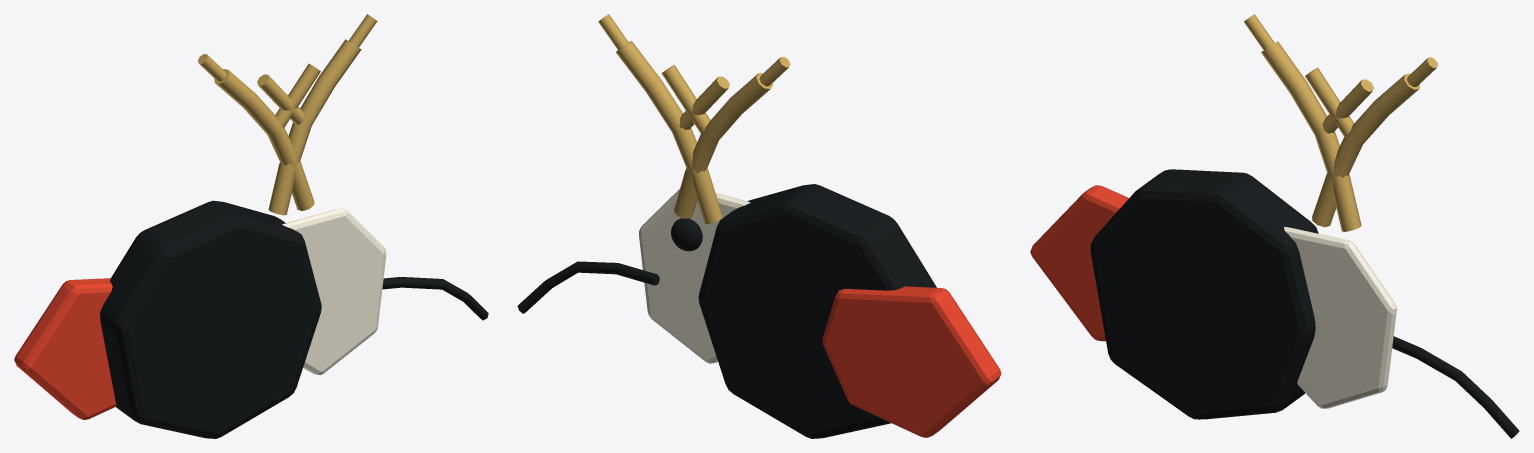
3 renders of one model, left to right at view 1: azimuth 30°, elevation 25°; view 2: azimuth 150°, elevation 25°; view 3: azimuth 330°, elevation 25°, orthographic. The views are drawn at different scales.
Parts seen in each view (by area): view 1: 128 horned dragon carp, 128 ivory armored face, 128 vermilion brush tail, 128 antler main -1, 128 antler main 1, 128 long whisker, 128 antler fork 1, 128 antler fork -1; view 2: 128 horned dragon carp, 128 vermilion brush tail, 128 ivory armored face, 128 antler main -1, 128 antler main 1, 128 long whisker, 128 antler fork 1, 128 antler fork -1, bold ink eye, 128 antler tine -1, 128 antler tine 1; view 3: 128 horned dragon carp, 128 ivory armored face, 128 vermilion brush tail, 128 antler main 1, 128 antler main -1, 128 long whisker, 128 antler fork -1, 128 antler fork 1, 128 antler tine 1, 128 antler tine -1.
Part boxes in pixels (left/top/right/bottom): 128 horned dragon carp: left=100, top=200, right=321, bottom=438; 128 ivory armored face: left=282, top=208, right=386, bottom=374; 128 vermilion brush tail: left=14, top=278, right=116, bottom=419; 128 antler main -1: left=268, top=39, right=361, bottom=215; 128 antler main 1: left=214, top=69, right=314, bottom=210; 128 long whisker: left=382, top=277, right=488, bottom=320; 128 antler fork 1: left=275, top=63, right=320, bottom=127; 128 antler fork -1: left=257, top=74, right=304, bottom=124; 128 horned dragon carp: left=698, top=184, right=936, bottom=438; 128 vermilion brush tail: left=822, top=286, right=1001, bottom=437; 128 ivory armored face: left=639, top=189, right=750, bottom=363; 128 antler main -1: left=616, top=41, right=722, bottom=223; 128 antler main 1: left=674, top=73, right=773, bottom=218; 128 long whisker: left=517, top=261, right=659, bottom=313; 128 antler fork 1: left=661, top=65, right=710, bottom=133; 128 antler fork -1: left=679, top=76, right=729, bottom=129; bold ink eye: left=671, top=218, right=702, bottom=251; 128 antler tine -1: left=598, top=14, right=628, bottom=50; 128 antler tine 1: left=759, top=57, right=790, bottom=86; 128 horned dragon carp: left=1090, top=169, right=1318, bottom=419; 128 ivory armored face: left=1284, top=226, right=1396, bottom=408; 128 vermilion brush tail: left=1030, top=185, right=1128, bottom=341; 128 antler main 1: left=1261, top=41, right=1361, bottom=231; 128 antler main -1: left=1312, top=73, right=1420, bottom=227; 128 long whisker: left=1392, top=336, right=1519, bottom=438; 128 antler fork -1: left=1305, top=67, right=1354, bottom=137; 128 antler fork 1: left=1322, top=79, right=1373, bottom=133; 128 antler tine 1: left=1244, top=14, right=1274, bottom=50; 128 antler tine -1: left=1407, top=57, right=1437, bottom=86.
Size of the model in its own units: 1.94 by 1.45 by 0.2846.
